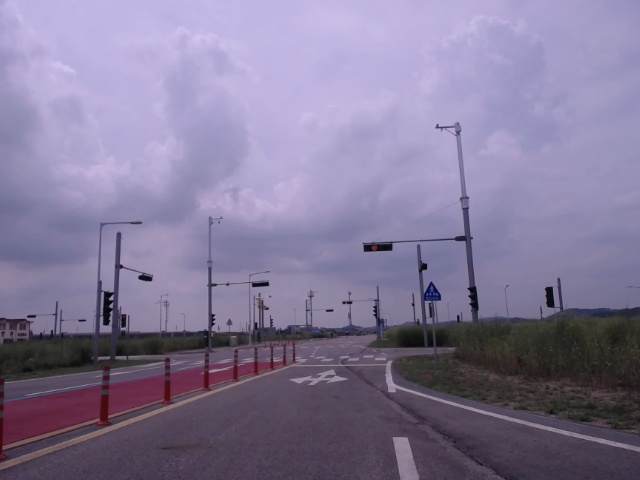orange_4: (362, 240, 395, 253), (341, 300, 354, 305)
